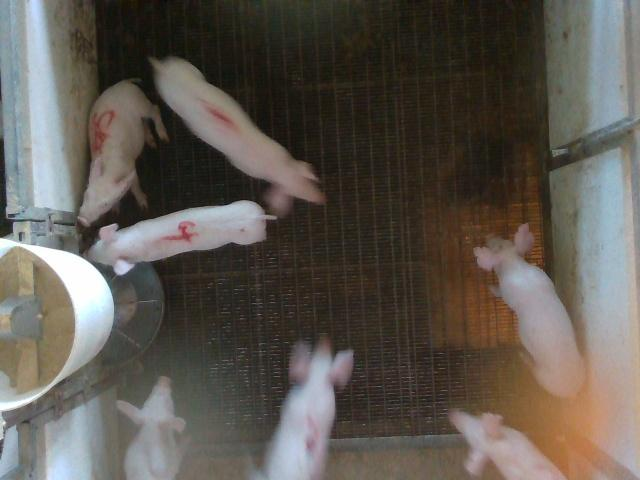pig-1: (149, 56, 325, 203)
pig-3: (262, 338, 354, 479)
pig-4: (86, 200, 271, 275)
pig-5: (78, 79, 169, 226)
